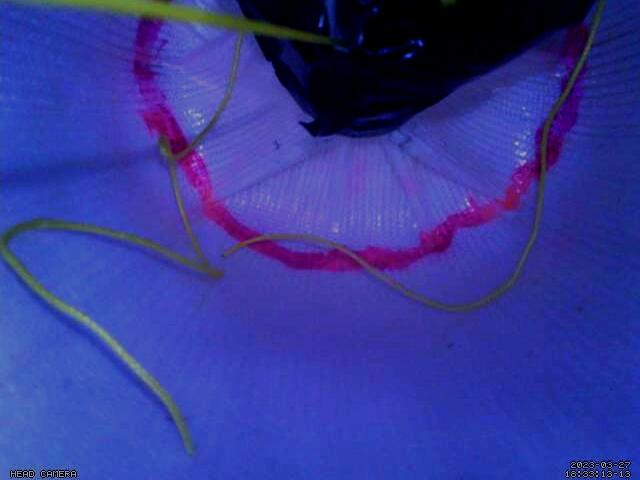head: (130, 16, 589, 272)
